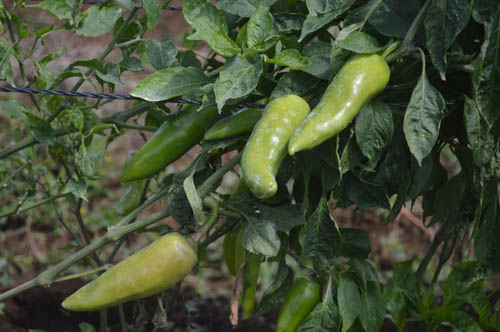ChiliPepper: (287, 54, 391, 162), (60, 232, 193, 307), (121, 103, 213, 187), (239, 96, 309, 205), (206, 100, 254, 146), (281, 278, 321, 330)
